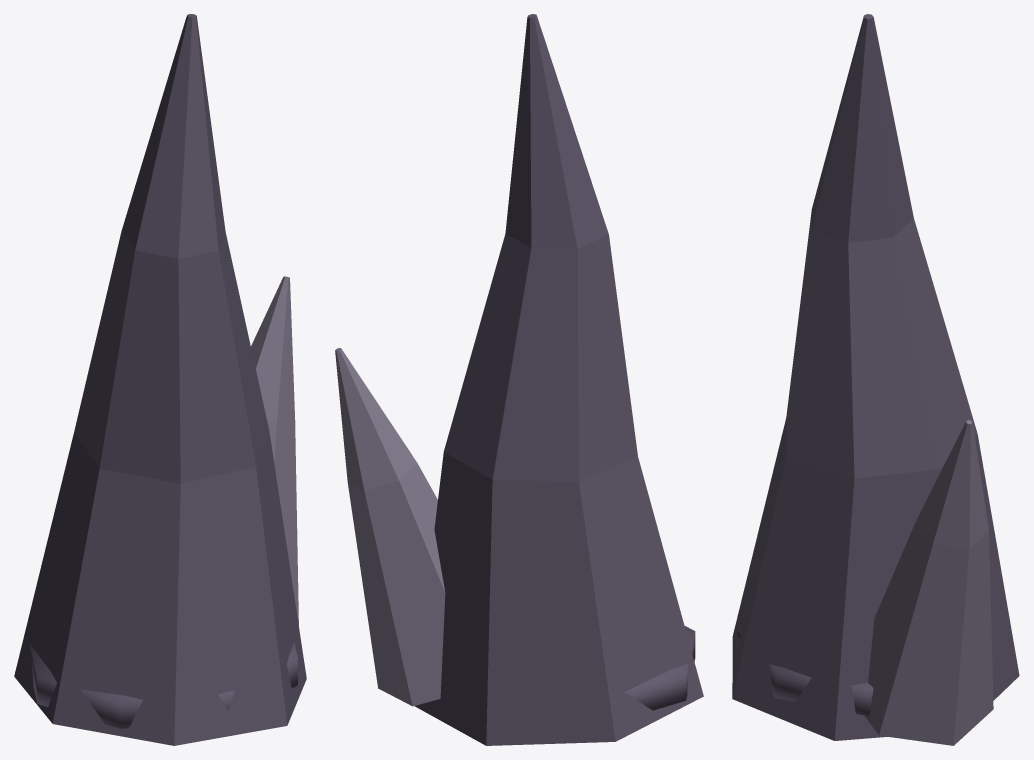
File: Stalagmite.fbx
3 views of the same model, side by side, from view 1: azimuth 30°, elevation 25°; view 2: azimuth 150°, elevation 25°; view 3: azimuth 270°, elevation 25° (orthographic).
Visible parts, largest first — view 1: Frame; view 2: Frame; view 3: Frame.
Part boxes in pixels (box(x1,y1,x2,y2)): Frame: box(14, 14, 306, 745); Frame: box(335, 14, 703, 745); Frame: box(732, 14, 1019, 745).
Size of the model in its own units: 2.09 by 4.46 by 1.71.
1 material, 1 textured.
